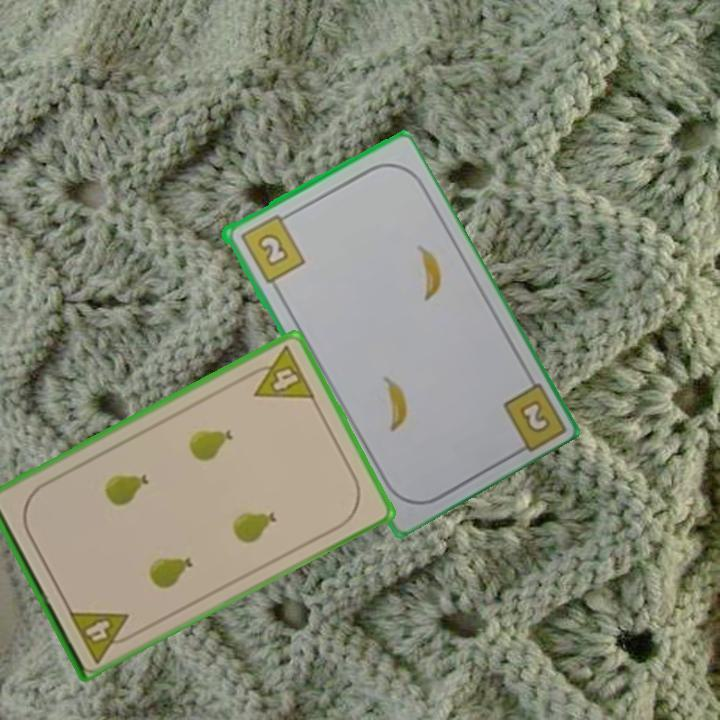2b: (236, 209, 308, 286), (515, 395, 553, 437)
4p: (241, 342, 318, 402), (65, 606, 140, 666)
